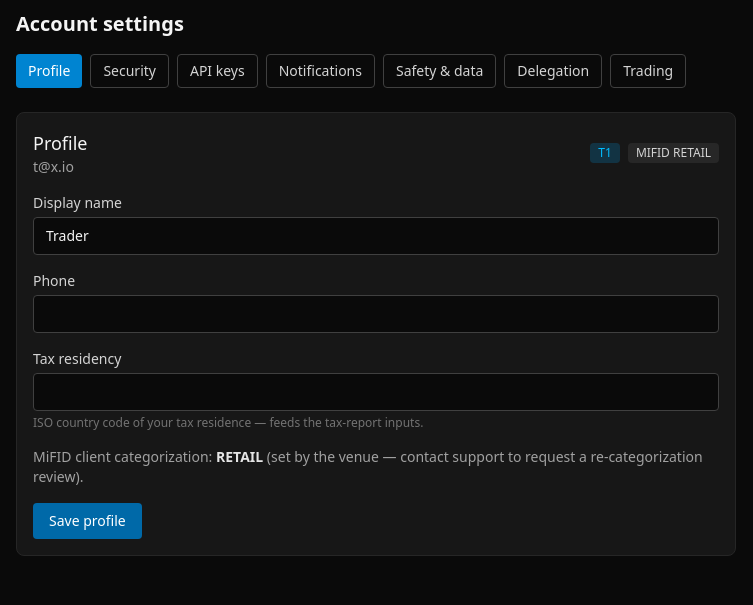
Scenario: SettingsPage › renders the profile tab and saves edits
Check: the text "MIFID RETAIL" is shown, box [628,143,719,163]
Replace the text in the field labelled "Display name" with "New Name" at (376, 236), box [33,217,719,255]
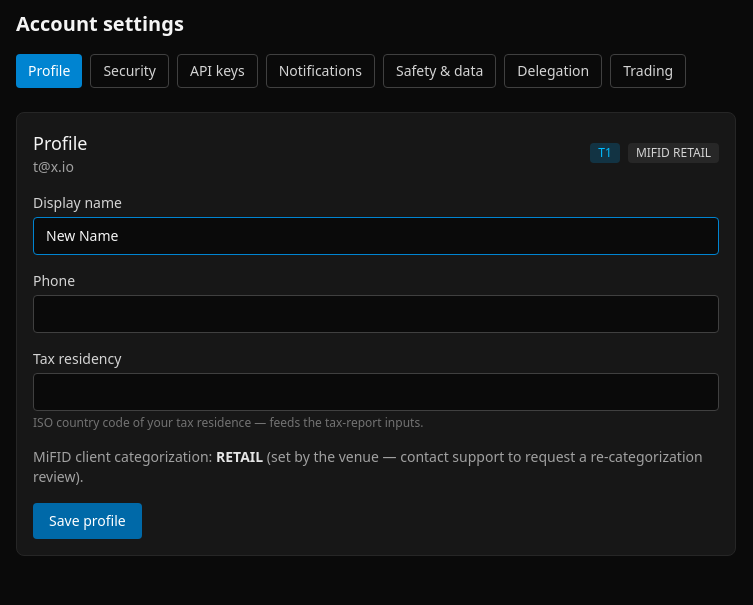
Click the button "Save profile" at (87, 521), box [33,503,142,539]
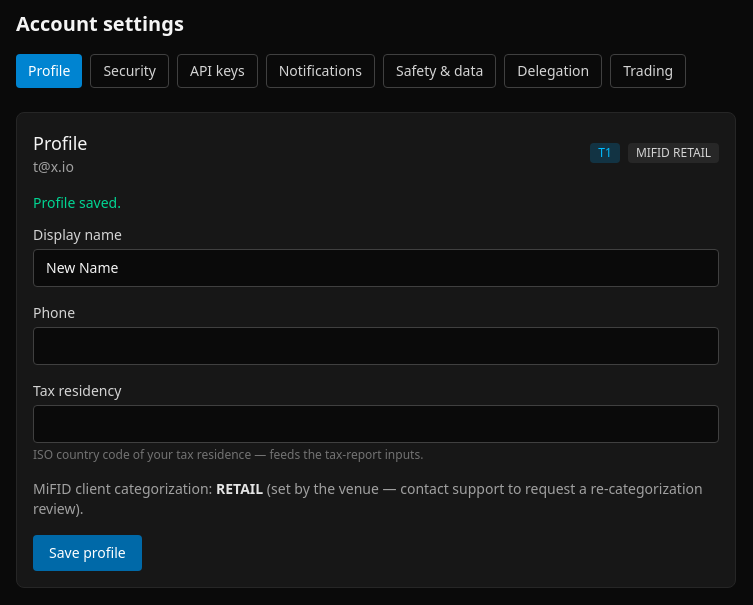
Check: the message shows "Profile saved", box [33,193,121,212]
